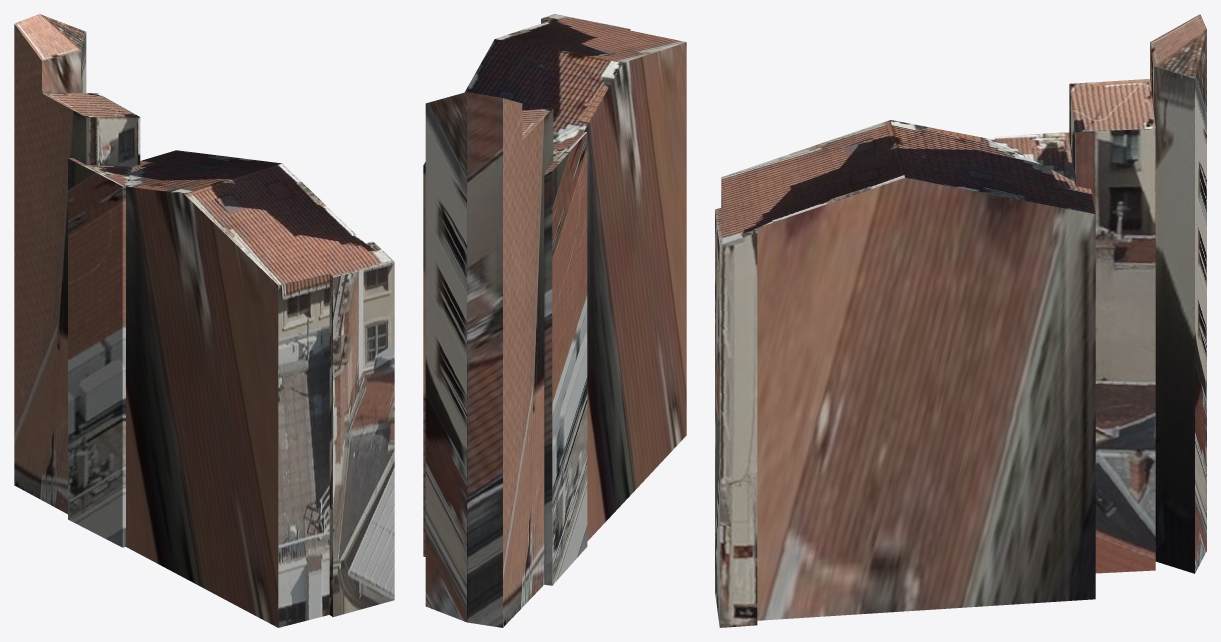
3 views of the same model, side by side, from view 1: azimuth 30°, elevation 25°; view 2: azimuth 150°, elevation 25°; view 3: azimuth 270°, elevation 25° (orthographic). The views are drawn at different scales.
Visible parts, largest first — view 1: Z_UP; view 2: Z_UP; view 3: Z_UP.
Boxes of the visible parts, x1,y1,x2,y2 form: Z_UP: (14, 14, 394, 627); Z_UP: (423, 14, 686, 627); Z_UP: (715, 14, 1206, 627).
Size of the model in its own units: 9.35 by 24.61 by 21.01.
Materials: 2 (1 with a texture image).
